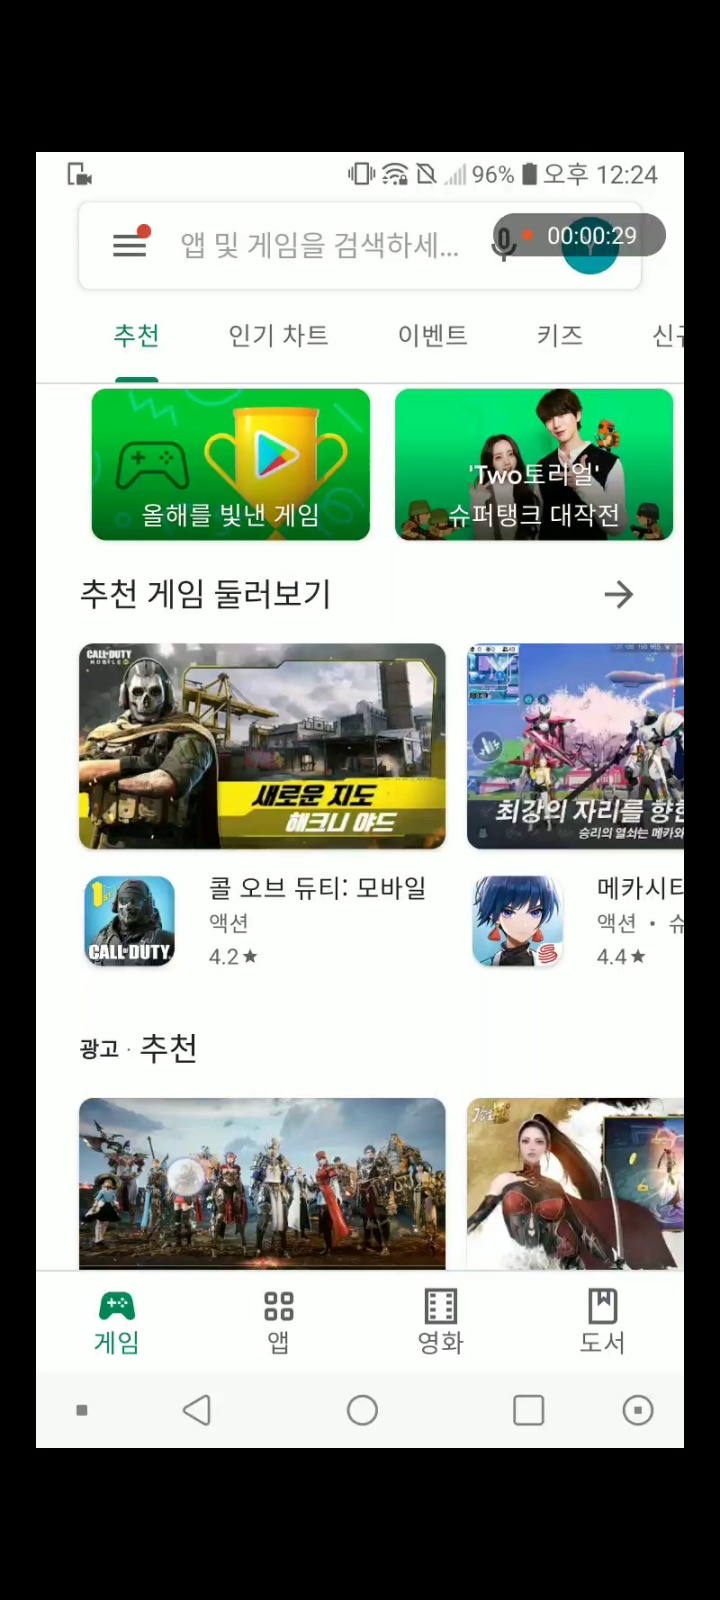Cursor: (164, 1155, 209, 1200)
